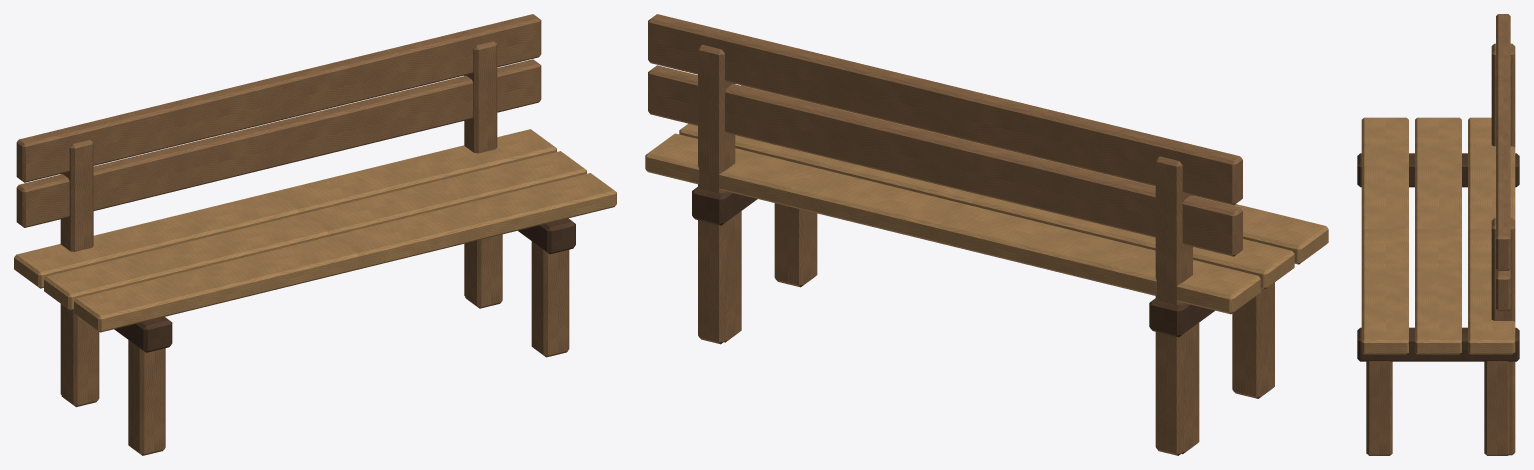
The model's file is park_bench.glb.
3 views of the same model, side by side, from view 1: azimuth 30°, elevation 25°; view 2: azimuth 150°, elevation 25°; view 3: azimuth 270°, elevation 25° (orthographic). The views are drawn at different scales.
Visible parts, largest first — view 1: park_bench_Mesh; view 2: park_bench_Mesh; view 3: park_bench_Mesh.
Part boxes in pixels (x1=…): park_bench_Mesh: x1=14, y1=14, x2=616, y2=455; park_bench_Mesh: x1=645, y1=14, x2=1328, y2=455; park_bench_Mesh: x1=1357, y1=14, x2=1519, y2=455.
Size of the model in its own units: 1.8 by 0.895 by 0.55.
3 materials, 3 textured.
